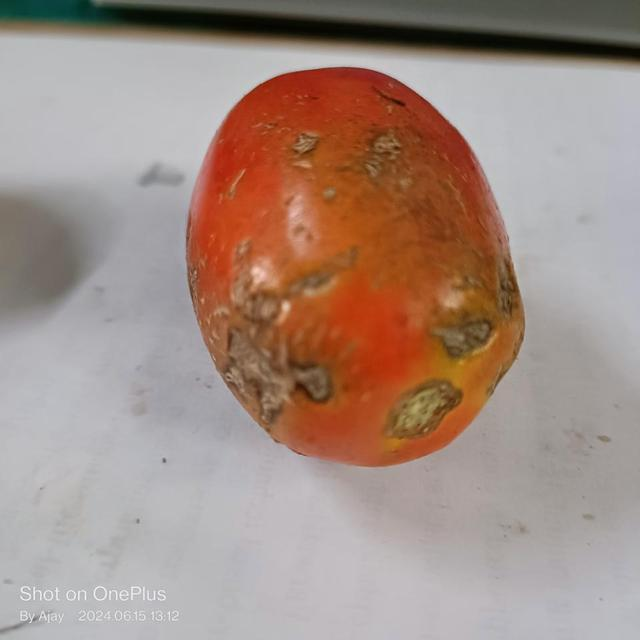Bacterial Spot Fruit: (24, 20, 308, 223)
